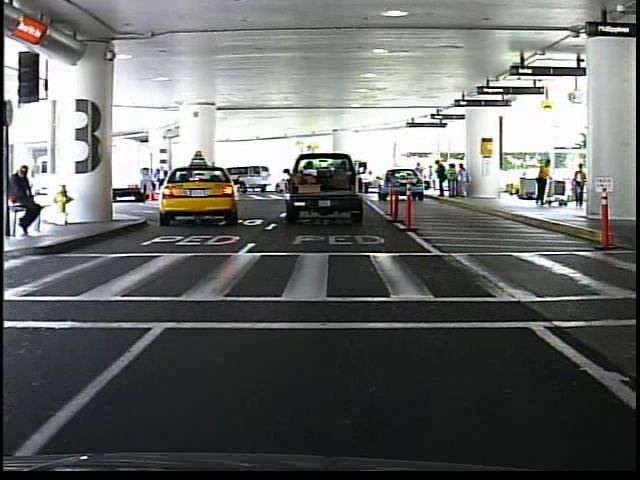person: (10, 161, 47, 235), (531, 154, 554, 208), (571, 160, 588, 211), (414, 161, 427, 193)
